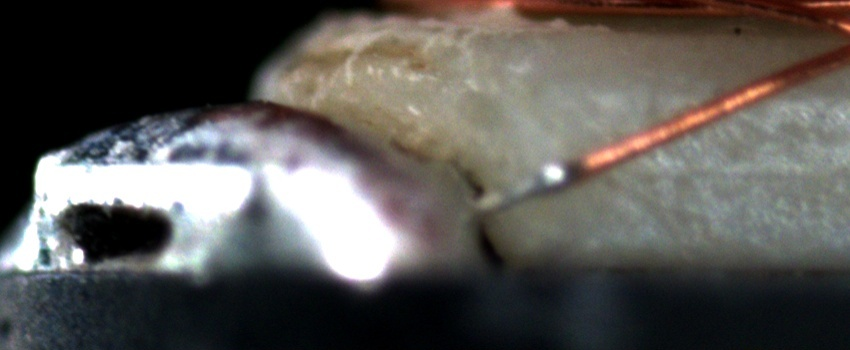DL: (610, 71, 850, 123), (624, 146, 850, 192)
TB: (531, 155, 573, 198)
TS: (474, 159, 582, 216)
TTCW: (474, 132, 635, 219)
